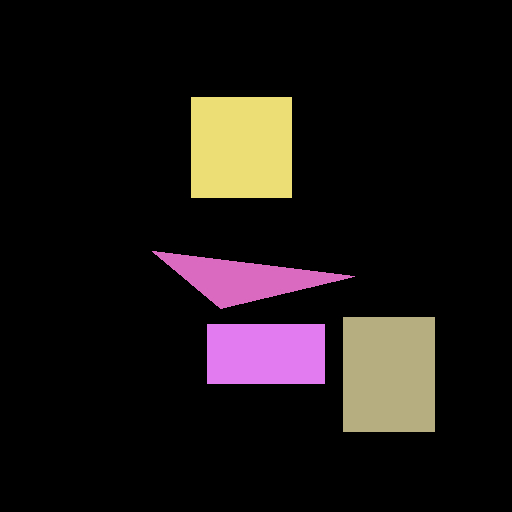rectangle: (343, 317, 434, 431), (207, 324, 324, 383)
square: (191, 97, 291, 197)
triangle: (152, 251, 354, 308)
